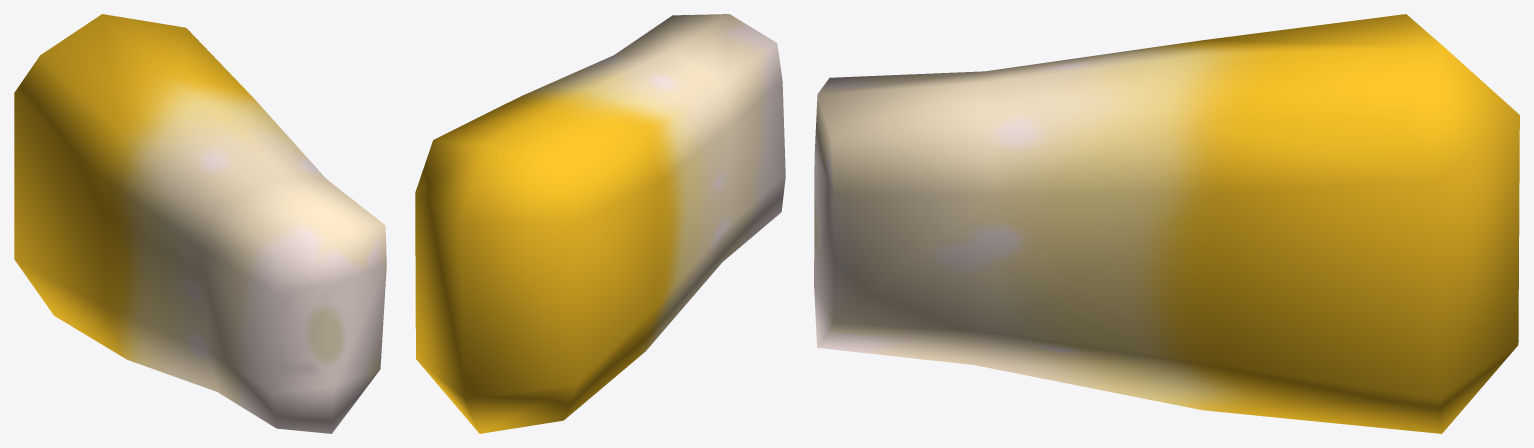
The model's file is misir_tanesi_2b.fbx.
3 renders of one model, left to right at view 1: azimuth 30°, elevation 25°; view 2: azimuth 150°, elevation 25°; view 3: azimuth 270°, elevation 25°, orthographic. The views are drawn at different scales.
Parts seen in each view (by area): view 1: misir_tanesi; view 2: misir_tanesi; view 3: misir_tanesi.
Part boxes in pixels (left/top/right/bottom): misir_tanesi: left=14, top=14, right=386, bottom=433; misir_tanesi: left=415, top=14, right=785, bottom=433; misir_tanesi: left=814, top=14, right=1519, bottom=433.
Size of the model in its own units: 0.7712 by 1.32 by 2.2.
Materials: 1 (1 with a texture image).
